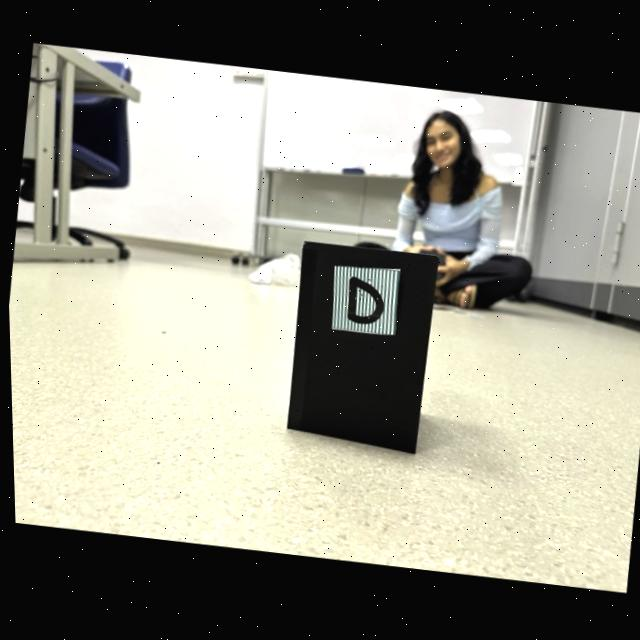D: (345, 277, 382, 324)
